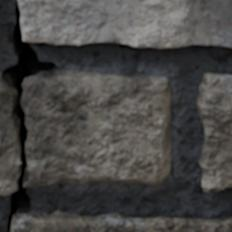brick: (19, 0, 231, 47), (11, 211, 231, 231), (197, 73, 231, 190)
broken_brick: (23, 69, 171, 188), (0, 79, 19, 196)
crack: (0, 0, 58, 231)
